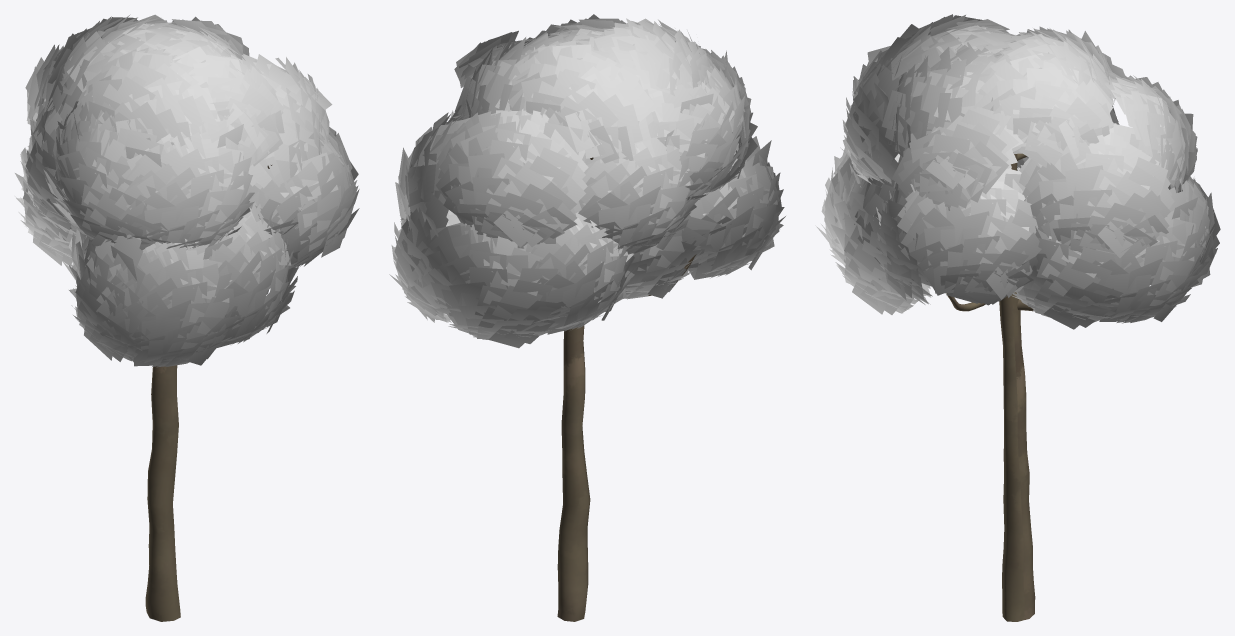
File: Standar Tree Tall_LOD_0.fbx
3 renders of one model, left to right at view 1: azimuth 30°, elevation 25°; view 2: azimuth 150°, elevation 25°; view 3: azimuth 270°, elevation 25°, orthographic. The views are drawn at different scales.
Visible parts, largest first — view 1: Top_Tree_Tall_LOD_1, Standar_Trunk_Tall_LOD_1; view 2: Top_Tree_Tall_LOD_1, Standar_Trunk_Tall_LOD_1; view 3: Top_Tree_Tall_LOD_1, Standar_Trunk_Tall_LOD_1.
Part boxes in pixels (bbox=[...]): Top_Tree_Tall_LOD_1: bbox=[15, 14, 359, 367]; Standar_Trunk_Tall_LOD_1: bbox=[145, 165, 271, 621]; Top_Tree_Tall_LOD_1: bbox=[389, 14, 785, 348]; Standar_Trunk_Tall_LOD_1: bbox=[557, 157, 696, 621]; Top_Tree_Tall_LOD_1: bbox=[815, 14, 1220, 329]; Standar_Trunk_Tall_LOD_1: bbox=[898, 152, 1035, 621].
Size of the model in its own units: 1618 by 3028 by 1933.
